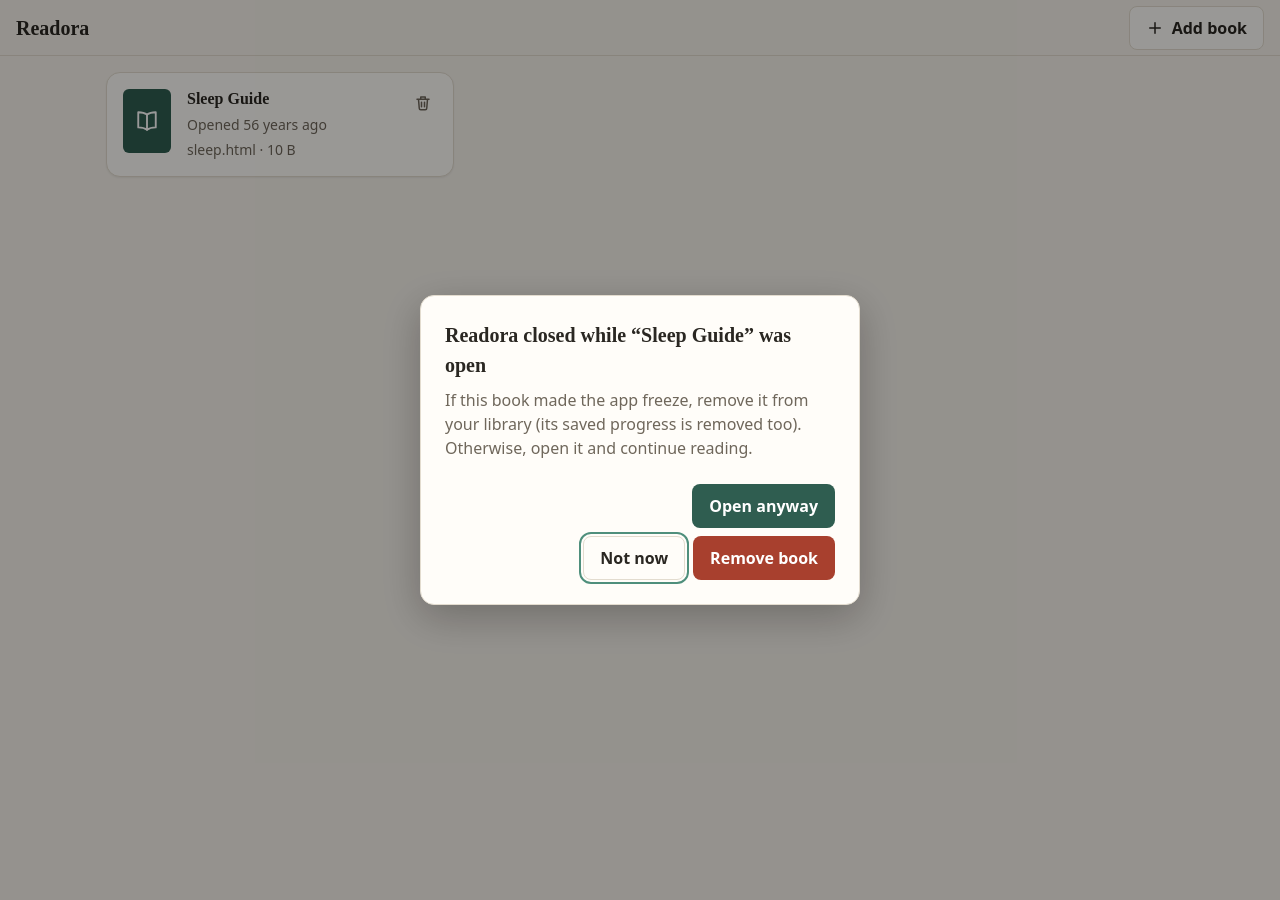
App recovery › offers to remove a book that was open when the app stopped
The image size is (1280, 900).
expect the dialog shows "closed while “Sleep Guide”": met, box [445,324,791,376]
Click the button "Remove book" at (764, 558), box [693,536,835,580]
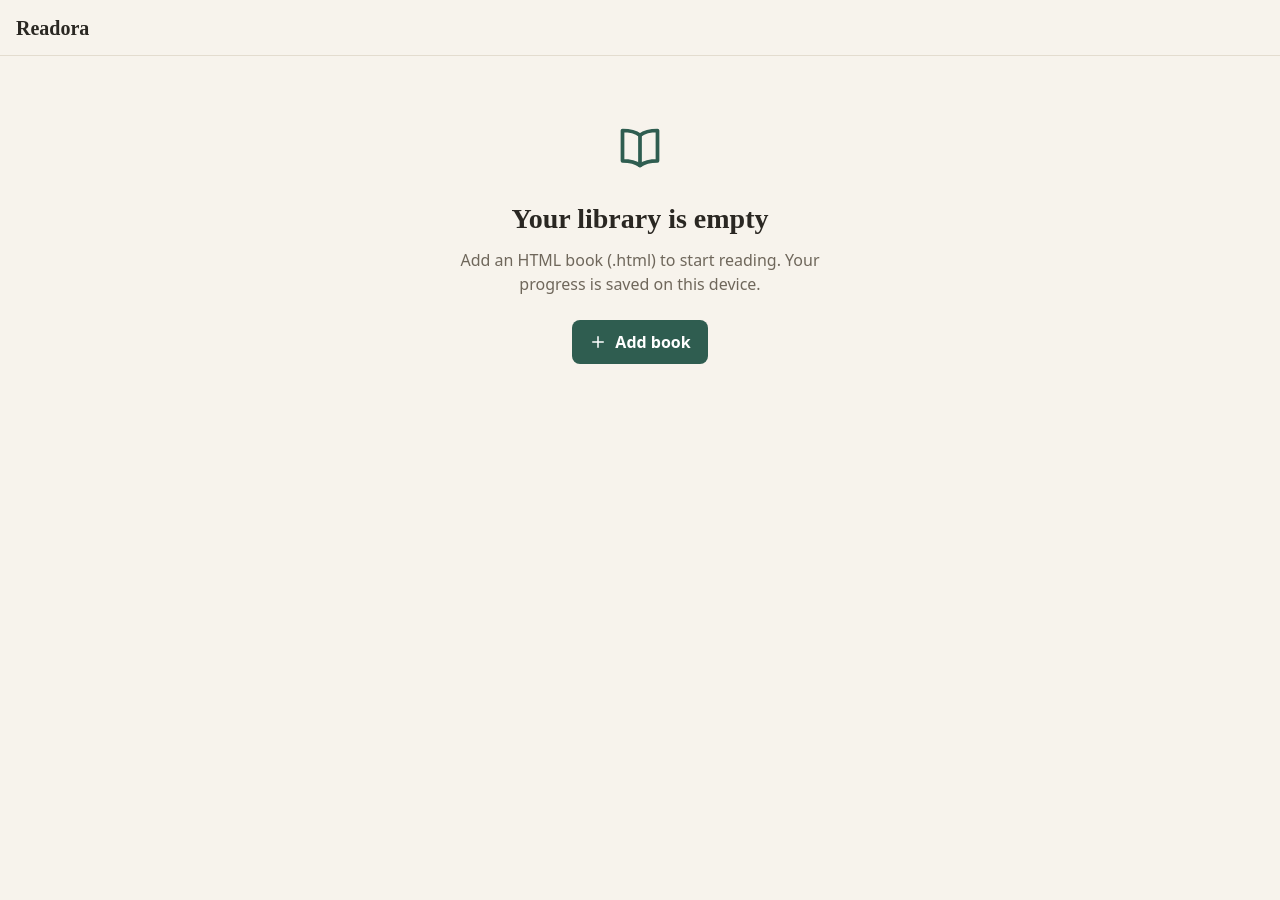
expect the heading "Your library is empty" is shown: met, box [512,198,768,240]
